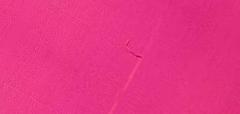snag: (122, 36, 147, 66)
